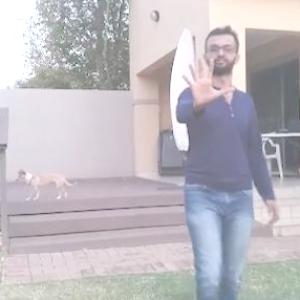follow_hand: (176, 53, 236, 110)
